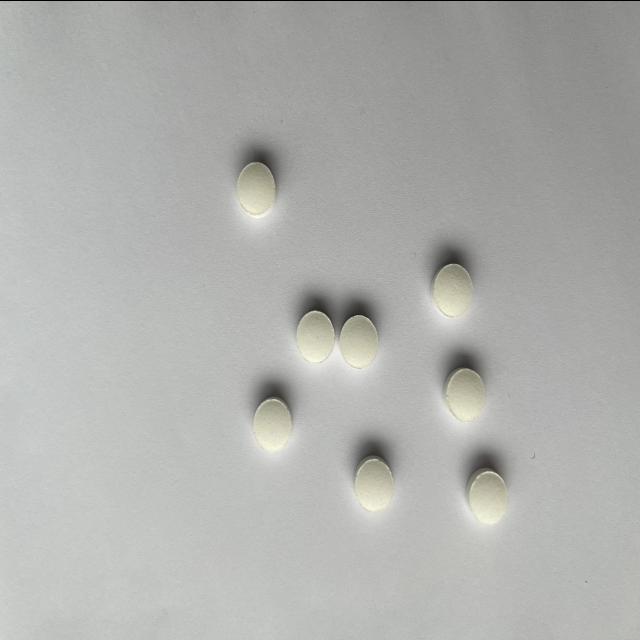Piller: (466, 466, 509, 524), (354, 454, 394, 511), (444, 367, 485, 421), (432, 263, 472, 317), (339, 313, 378, 367), (296, 310, 335, 362), (254, 397, 291, 451), (238, 161, 275, 214)
